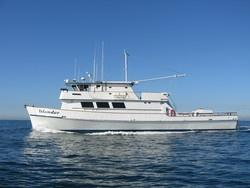otherboat: (18, 45, 240, 134)
